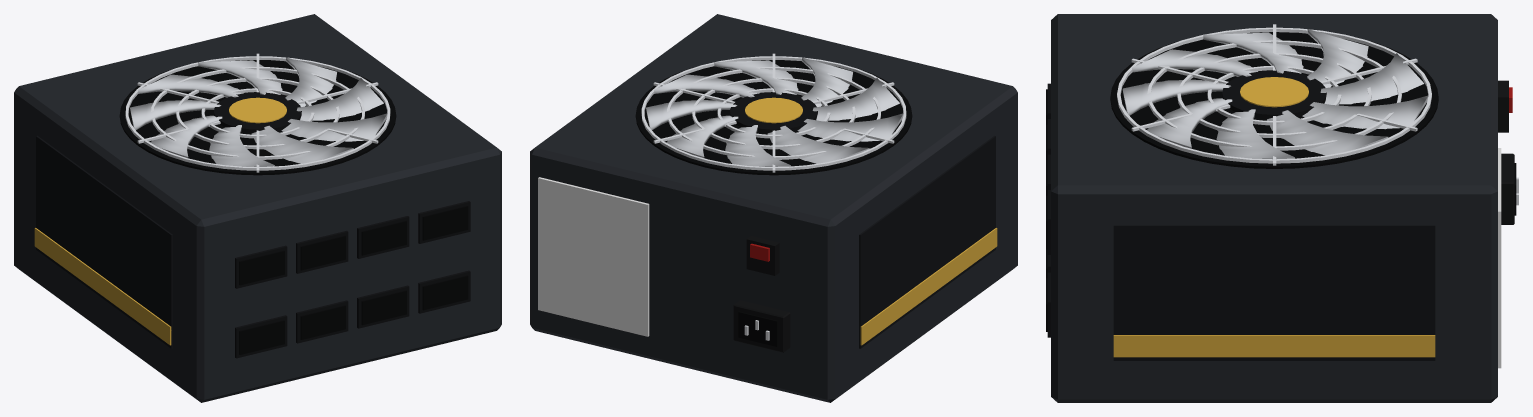
Rendered from hw_psu_850w_gold.glb.
The picture shows the model from 3 angles, left to right: view 1: azimuth 30°, elevation 25°; view 2: azimuth 150°, elevation 25°; view 3: azimuth 270°, elevation 25°; orthographic projection. The views are drawn at different scales.
Visible parts, largest first — view 1: Body, Rotor_Y_0; view 2: Body, Rotor_Y_0; view 3: Body, Rotor_Y_0.
Boxes of the visible parts, <box> form: Body: <box>14,14,501,402</box>; Rotor_Y_0: <box>130,57,387,166</box>; Body: <box>530,14,1017,402</box>; Rotor_Y_0: <box>646,57,903,166</box>; Body: <box>1046,14,1518,402</box>; Rotor_Y_0: <box>1122,29,1428,159</box>.
Bounding box in the file's own units: 0.1528 × 0.0894 × 0.1693.
